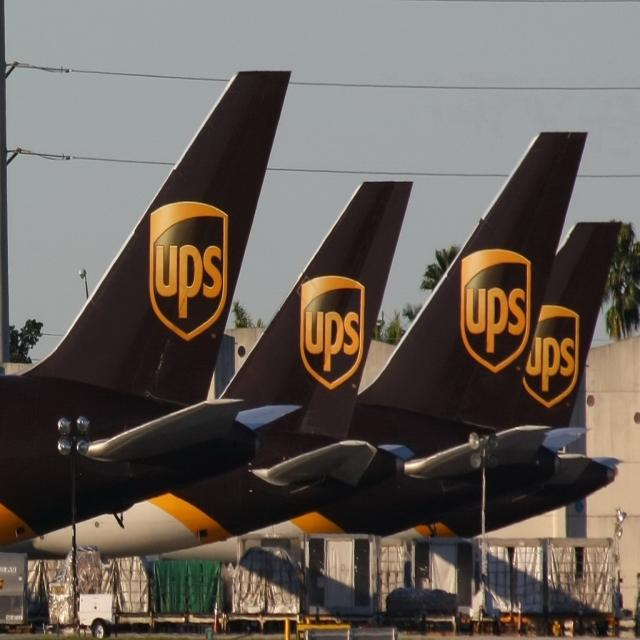ups: (150, 201, 231, 343), (461, 249, 533, 375), (300, 275, 368, 392), (523, 305, 581, 412)
